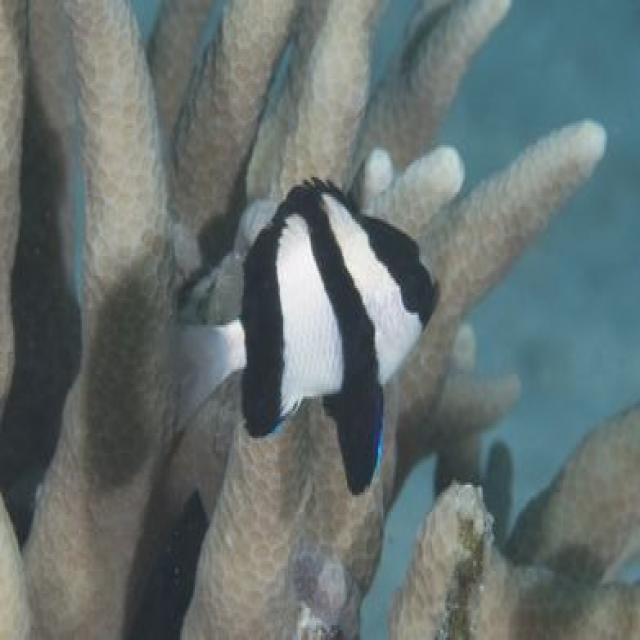ThreeStripedDamselfish: (185, 177, 437, 497)
